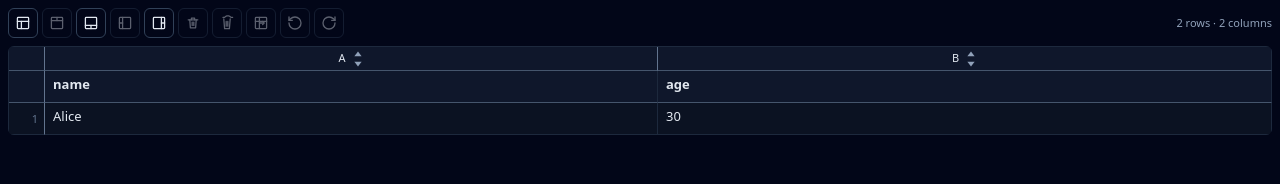
CsvPreview (custom grid) › Insert row below toolbar button inserts a row after the active row
The width and height of the screenshot is (1280, 184).
Press the mouse on the cell "1": {"x": 27, "y": 119} [9,103,45,135]
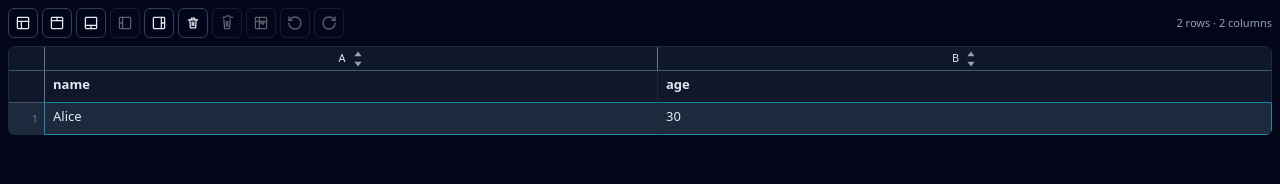
Click the button named "Insert row below": {"x": 91, "y": 23} [76,8,106,38]
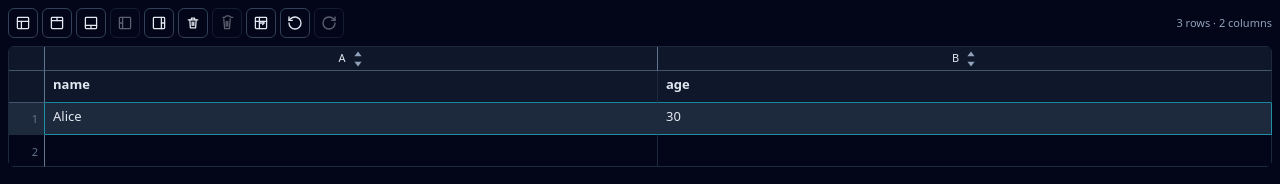
Result: the text "3 rows · 2 columns" is shown at [1176,16,1272,30]
